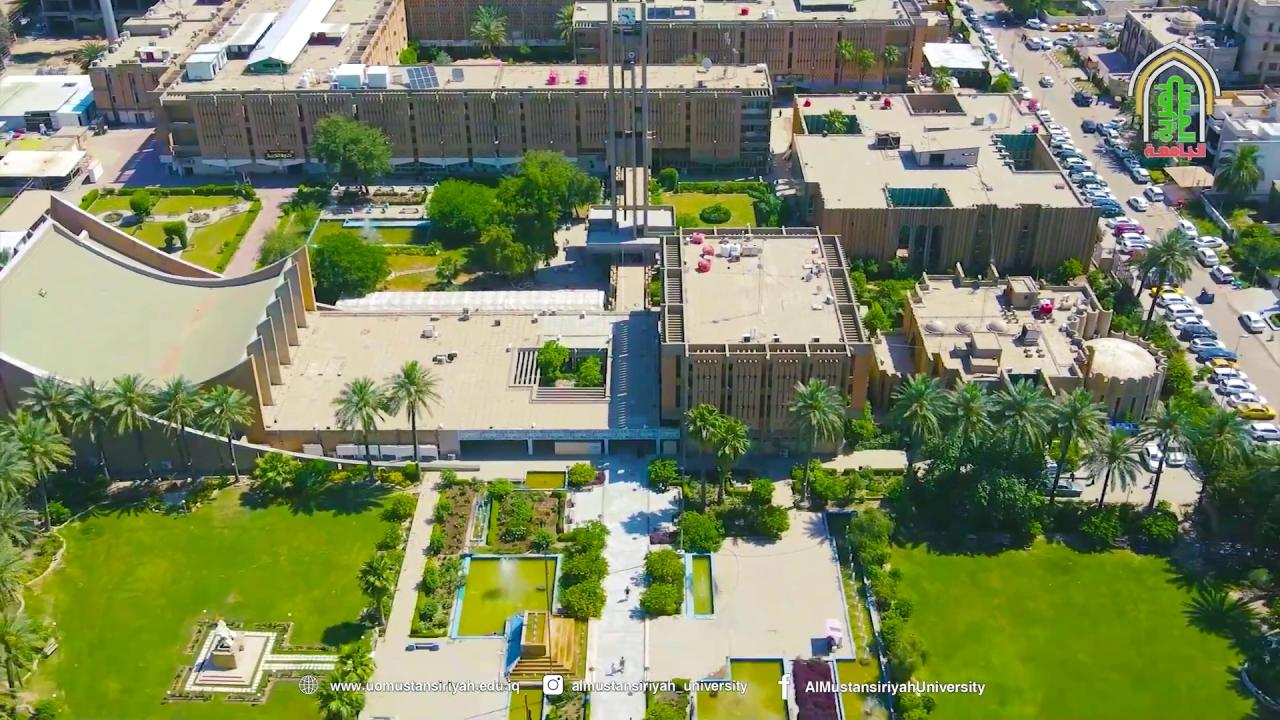car: (1026, 476, 1082, 498), (1232, 400, 1280, 422), (1164, 300, 1206, 324), (1189, 232, 1234, 254), (1173, 313, 1216, 335), (1186, 335, 1230, 356), (1195, 346, 1240, 366), (1219, 376, 1256, 399), (1226, 391, 1270, 410), (1119, 238, 1160, 257), (1092, 200, 1126, 222), (1150, 280, 1183, 302), (1206, 357, 1240, 378), (1212, 368, 1251, 386), (1207, 264, 1235, 288), (1192, 245, 1220, 268), (1247, 425, 1280, 444), (1238, 311, 1266, 333), (1142, 442, 1164, 470), (1107, 215, 1143, 232), (1180, 217, 1197, 247), (1165, 444, 1187, 467), (1147, 186, 1168, 204), (1089, 193, 1116, 204), (1130, 195, 1148, 210), (1039, 75, 1054, 87)
fountain: (825, 499, 896, 720), (448, 552, 560, 642), (686, 653, 799, 720), (481, 469, 574, 501), (340, 214, 432, 246), (684, 544, 720, 624)
tree: (424, 147, 603, 283), (0, 406, 75, 532), (784, 376, 848, 505), (495, 148, 602, 223), (1129, 226, 1196, 339), (1044, 385, 1108, 501), (307, 112, 394, 194), (1132, 397, 1191, 514), (381, 358, 443, 464), (1179, 404, 1246, 502), (329, 375, 392, 479), (308, 229, 392, 304), (987, 371, 1054, 460), (195, 383, 255, 481), (1078, 427, 1142, 508), (314, 634, 375, 718), (150, 373, 203, 468), (559, 578, 607, 679), (64, 375, 112, 473), (887, 371, 951, 444), (425, 177, 502, 237), (0, 438, 41, 546), (941, 380, 994, 462), (684, 402, 721, 507), (706, 413, 750, 501), (17, 371, 74, 432), (104, 371, 158, 435), (844, 505, 895, 569), (306, 112, 354, 180), (1229, 221, 1279, 286), (355, 550, 398, 625), (641, 547, 685, 613), (1212, 142, 1261, 198), (251, 450, 302, 495), (332, 635, 375, 686), (468, 3, 508, 57), (674, 510, 723, 554), (836, 39, 875, 94), (478, 223, 520, 274), (560, 578, 607, 621), (483, 477, 512, 546), (559, 548, 609, 588), (315, 680, 365, 718), (745, 176, 783, 226), (256, 226, 300, 269), (496, 493, 534, 542), (553, 2, 580, 63), (433, 246, 471, 289), (638, 581, 682, 617), (536, 338, 570, 382), (751, 502, 790, 540), (862, 298, 893, 335), (646, 457, 678, 492), (698, 202, 731, 235), (73, 40, 108, 71), (880, 43, 901, 90), (834, 38, 854, 85), (574, 356, 603, 388), (549, 488, 569, 534), (566, 461, 597, 488), (162, 220, 188, 249), (129, 187, 152, 218), (1057, 257, 1083, 284), (821, 106, 848, 132), (485, 476, 511, 503), (528, 527, 554, 553), (428, 522, 448, 554), (657, 166, 679, 192), (931, 65, 952, 92), (989, 72, 1013, 93), (438, 467, 457, 488)
